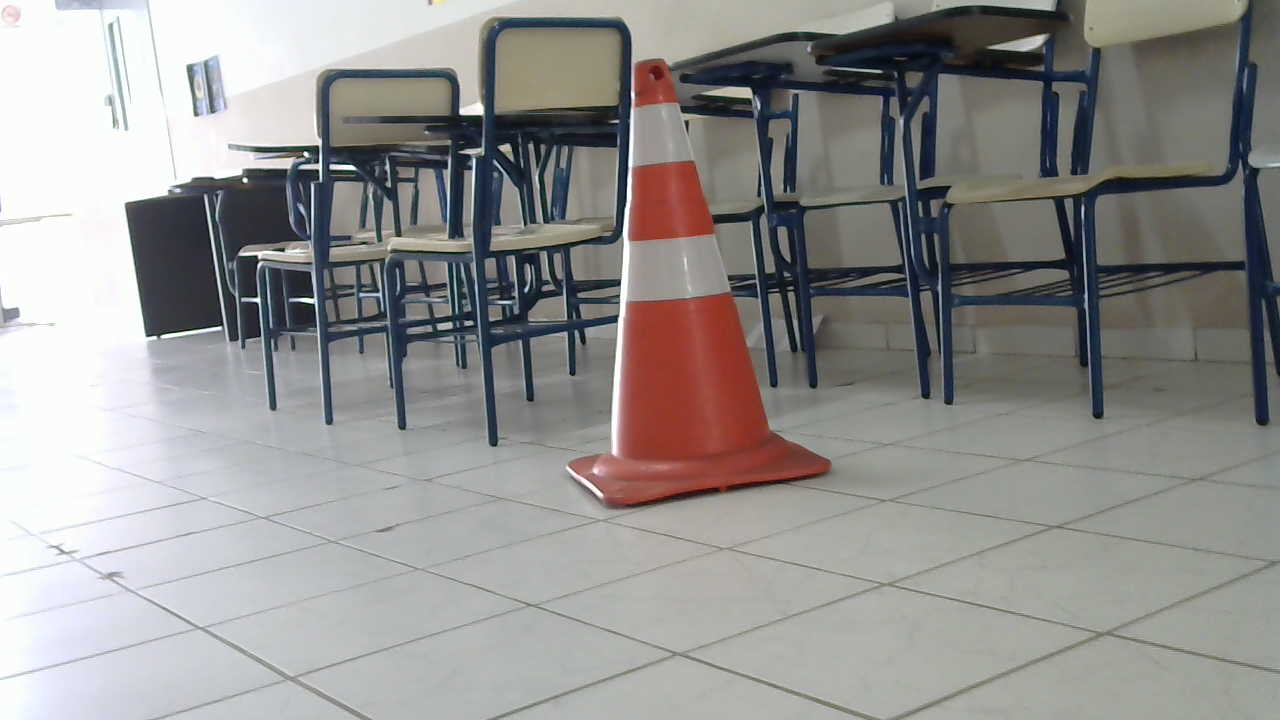cone: (573, 55, 825, 510)
